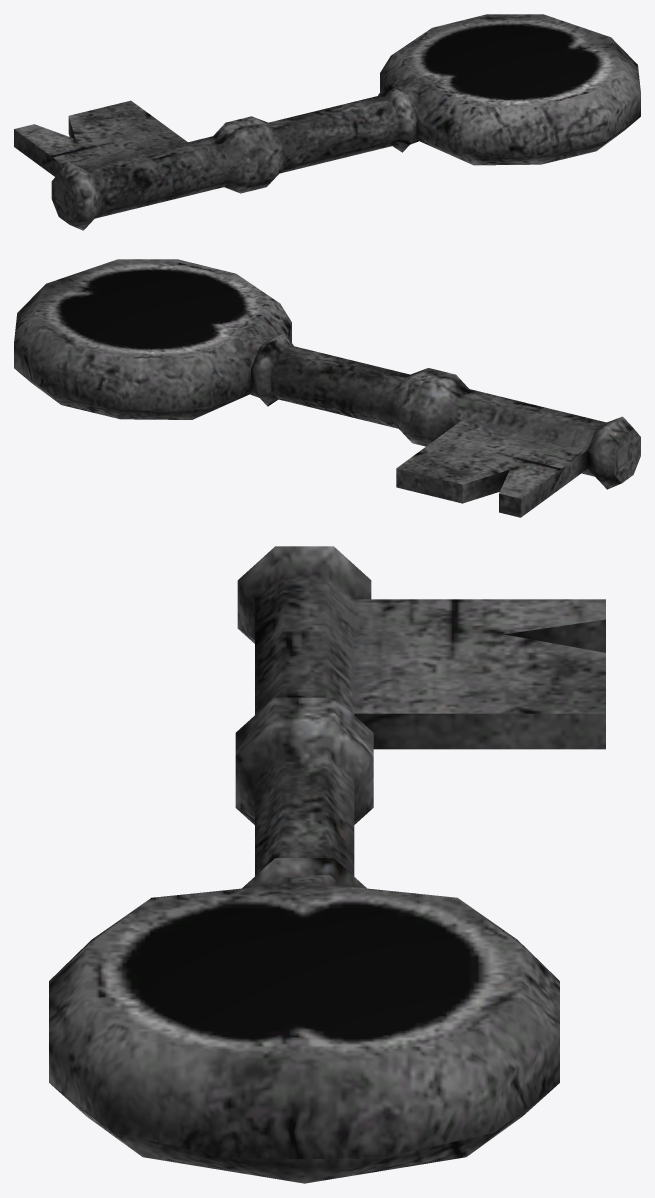
The model's file is key_laboratory.dae.
3 views of the same model, one above another, from view 1: azimuth 30°, elevation 25°; view 2: azimuth 150°, elevation 25°; view 3: azimuth 270°, elevation 25° (orthographic). The views are drawn at different scales.
Parts seen in each view (by area): view 1: key_lab1; view 2: key_lab1; view 3: key_lab1.
Boxes of the visible parts, box(x1,y1,x2,y2) form: key_lab1: box(14, 14, 640, 230); key_lab1: box(14, 259, 640, 517); key_lab1: box(49, 546, 605, 1183).
Size of the model in its own units: 0.205 by 0.0211 by 0.0889.
